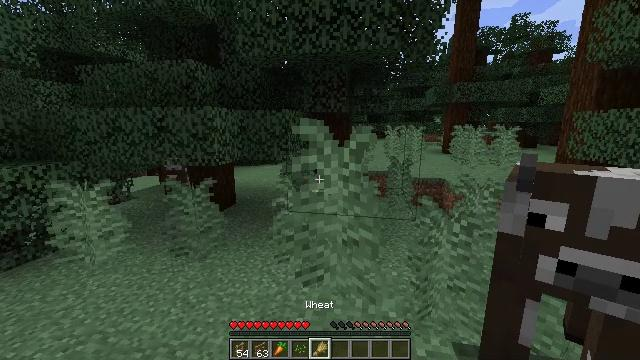cow: (495, 154, 640, 360)
